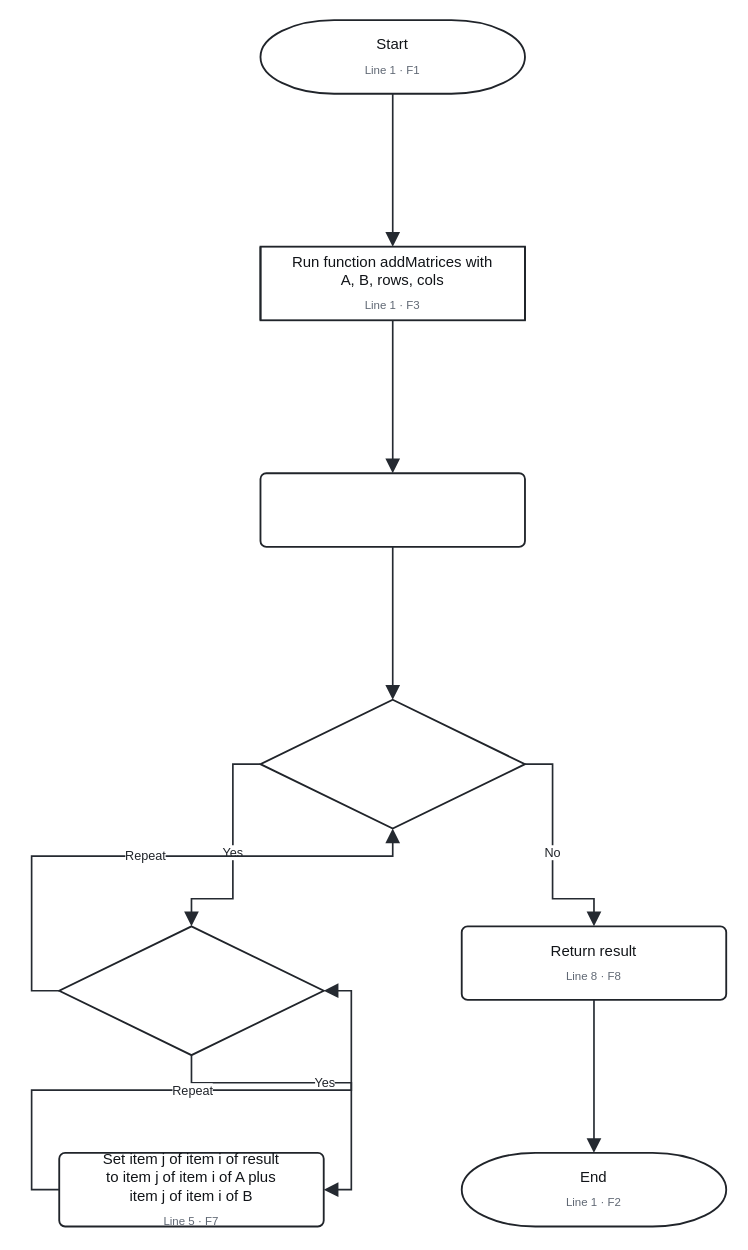
Image size: 748x1250. Some labels were removed from this diagram. The centre of each missing label's shape, as x and y in pixels:
"For i from 0 to rows minus 1 plus 1 Line 3 · F5" belongs at pixel 392 763.
"For j from 0 to cols minus 1 plus 1 Line 4 · F6" belongs at pixel 191 990.
"Set result to the result of create_matrix(rows, cols, 0) Line 2 · F4" belongs at pixel 392 509.
